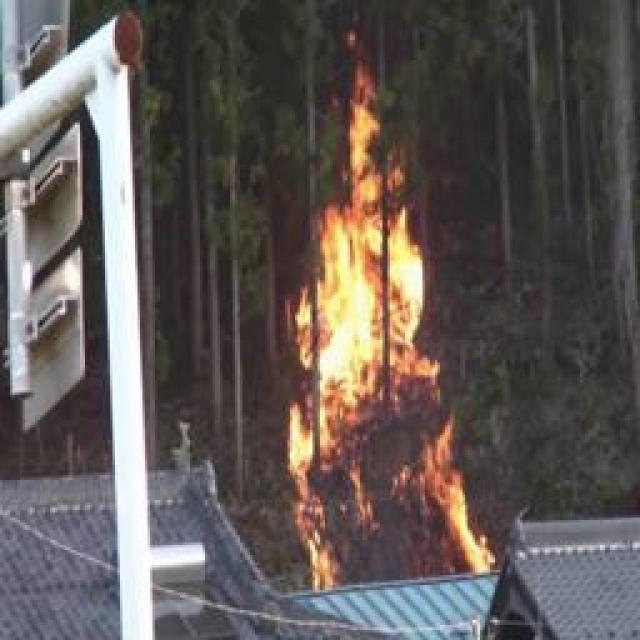Fire: (291, 78, 478, 589)
